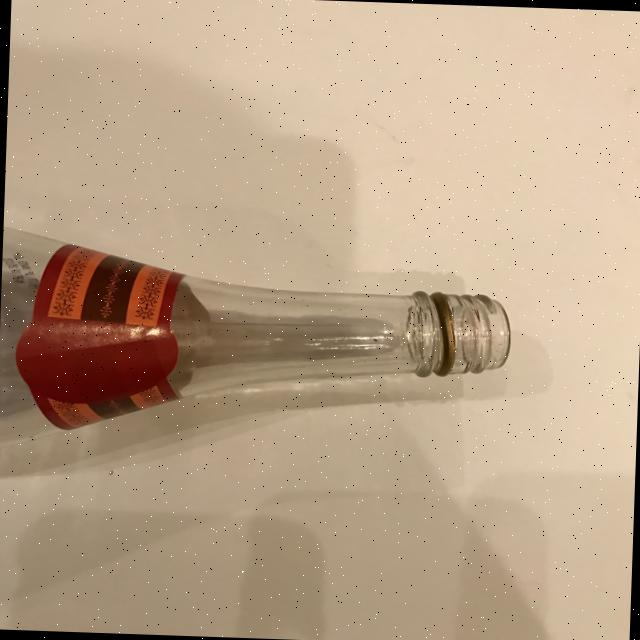glass: (0, 224, 514, 445)
